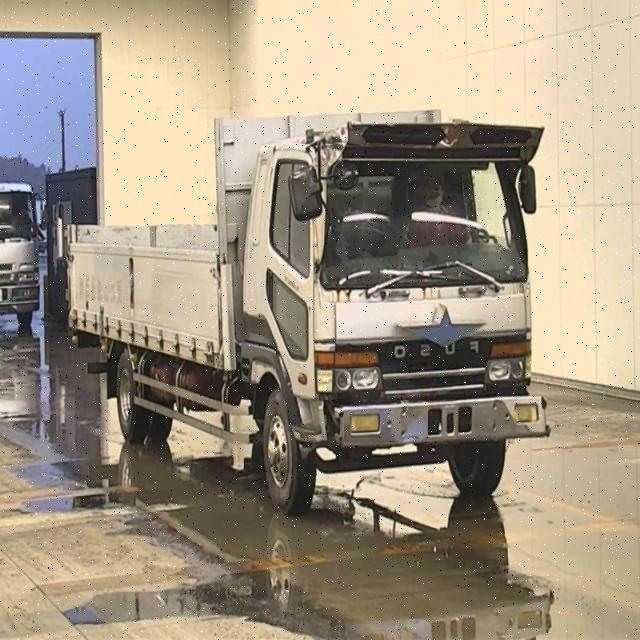truck: (61, 106, 546, 513)
